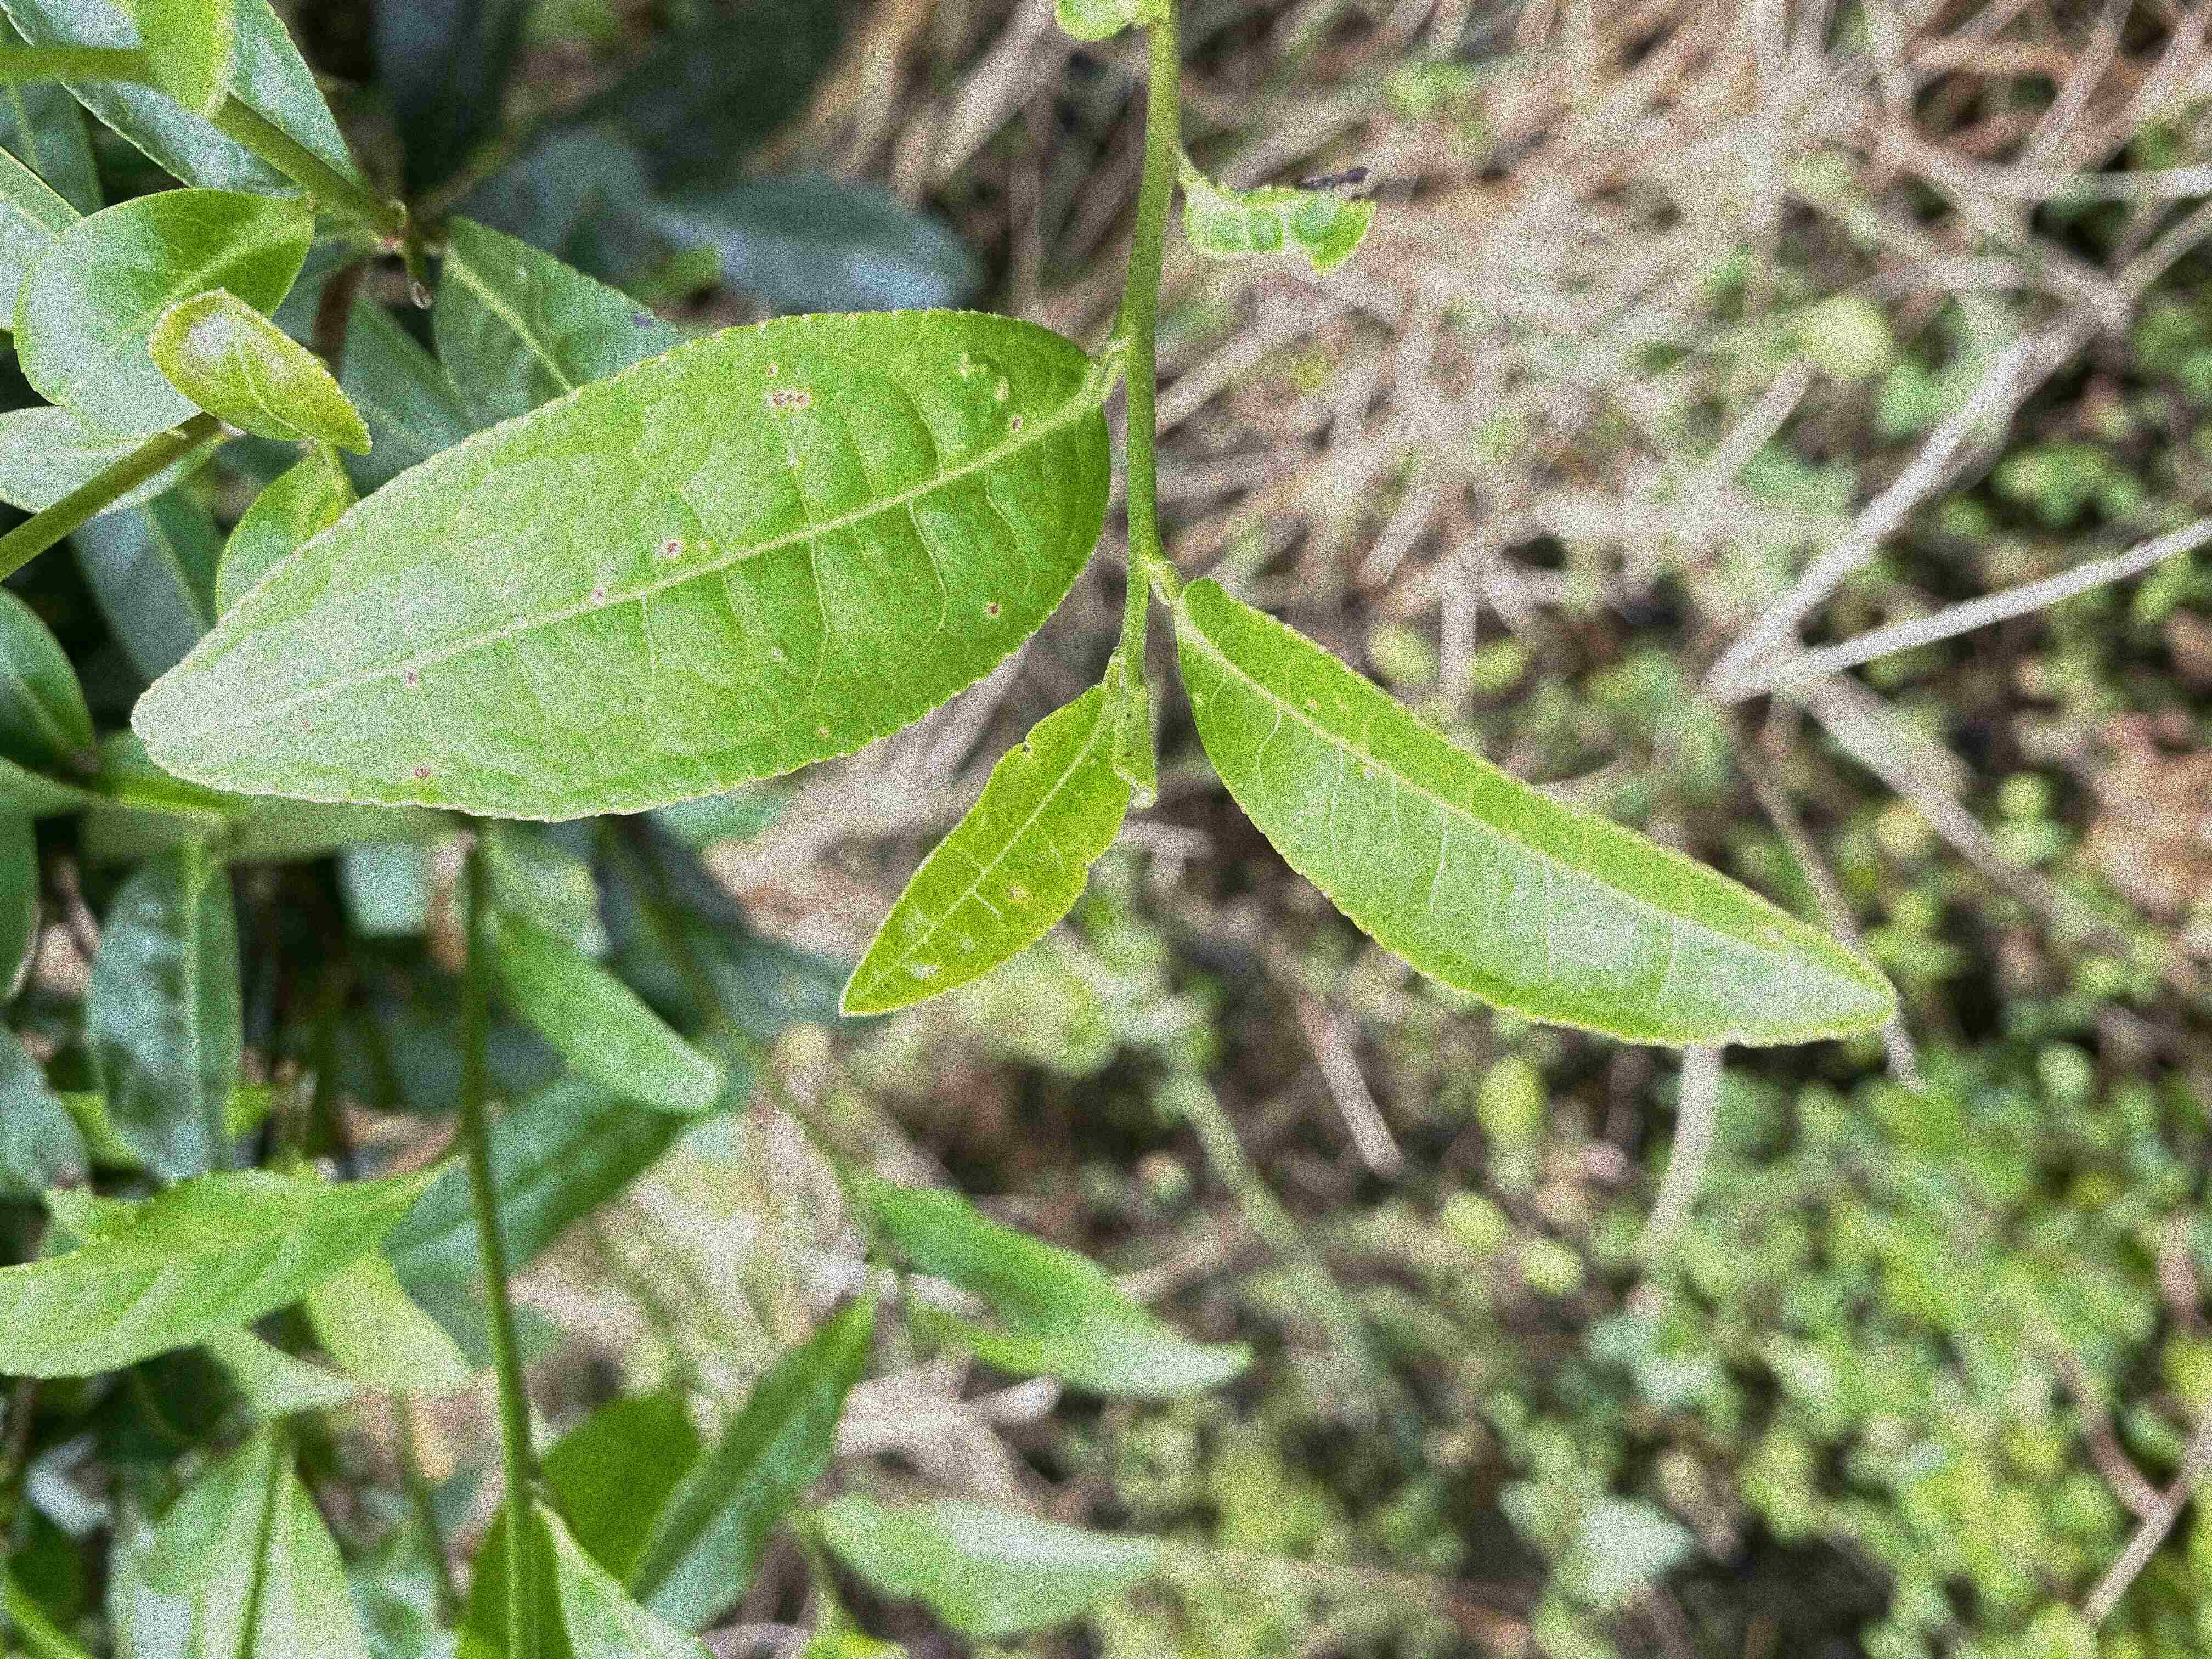healthy: (1172, 580, 1898, 1051), (12, 185, 320, 441), (146, 288, 374, 455)
tanju_low: (131, 303, 1118, 826), (836, 685, 1136, 1018)
